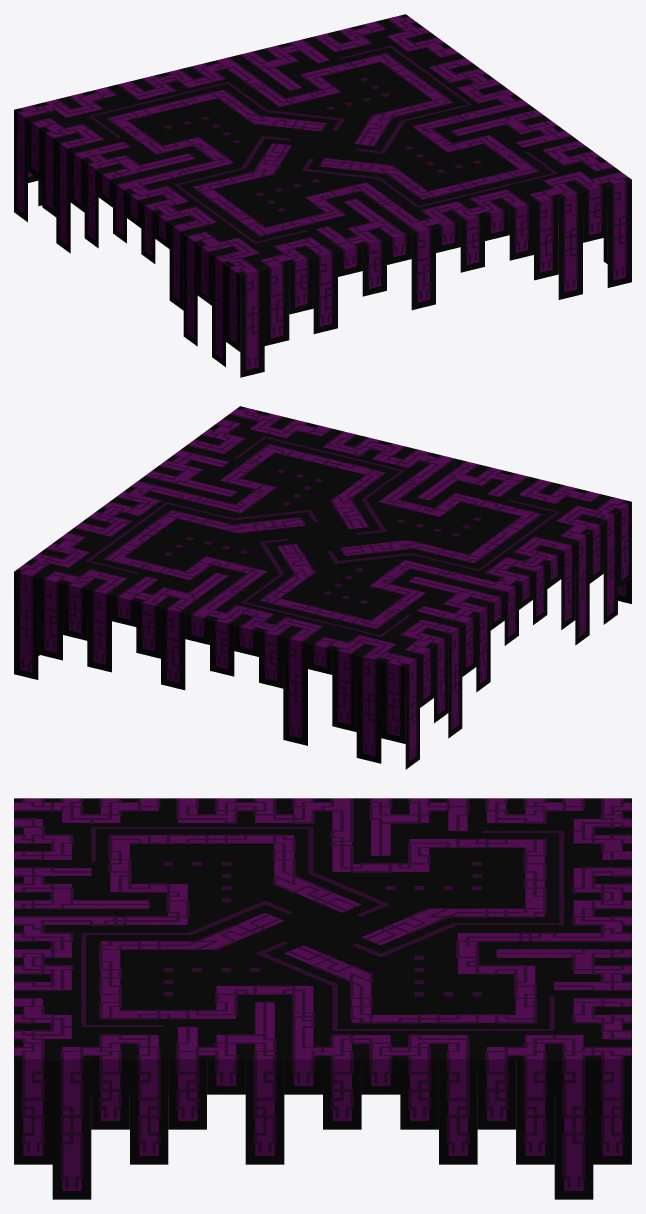
The model's file is Map.fbx.
3 renders of one model, top to bottom at view 1: azimuth 30°, elevation 25°; view 2: azimuth 150°, elevation 25°; view 3: azimuth 270°, elevation 25°, orthographic. The views are drawn at different scales.
Visible parts, largest first — view 1: Map; view 2: Map; view 3: Map.
Boxes of the visible parts, <box> form: Map: <box>14,14,631,377</box>; Map: <box>14,406,631,769</box>; Map: <box>14,798,631,1199</box>.
Size of the model in its own units: 1600 by 400 by 1600.
Materials: 1 (1 with a texture image).
